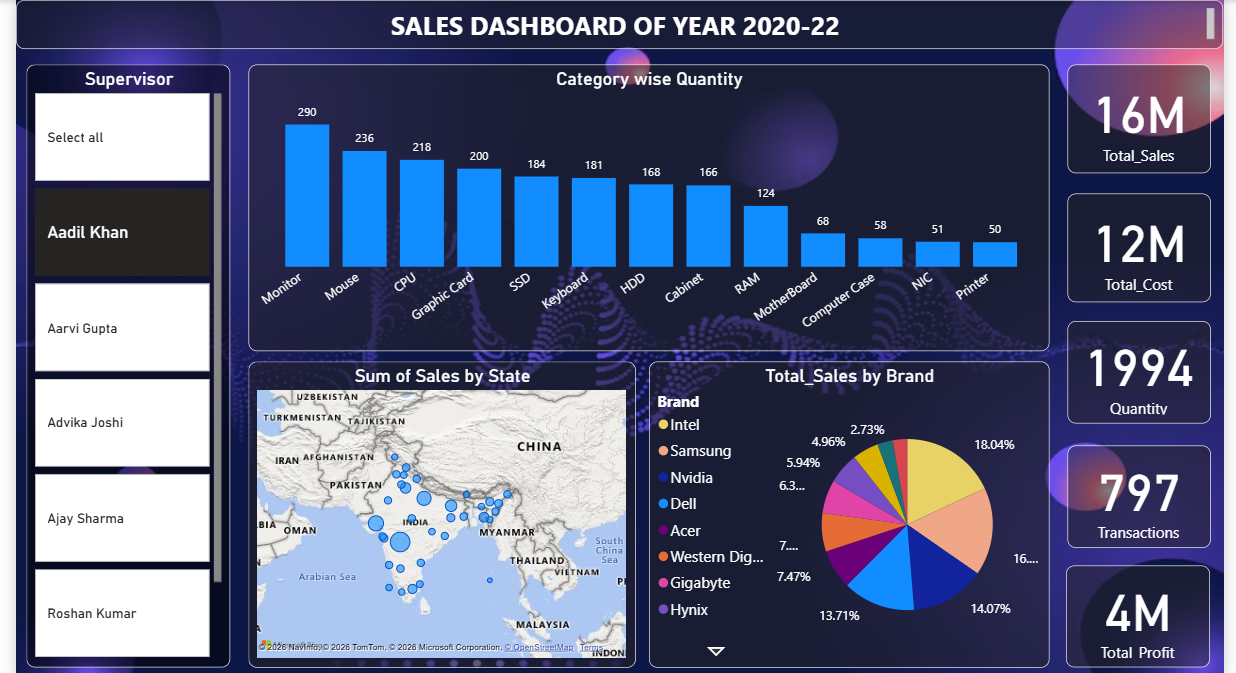

The dashboard page shown, as its layout file describes it:
{"tool":"powerbi","page":{"name":"Page 1","canvas":[1280,720],"ordinal":0},"visuals":[{"type":"textbox","box":[0,0,1280,51.7],"z":0},{"type":"card","fields":{"Values":["Sum(Sales_Data.Total_Sales)"]},"box":[1115,68.3,151.7,115],"z":1000},{"type":"card","fields":{"Values":["Sum(Sales_Data.Total_Cost)"]},"box":[1115,205,151.7,115],"z":2000},{"type":"card","fields":{"Values":["Sum(Sales_Data.Quantity)"]},"box":[1115,340,151.7,108.3],"z":3000},{"type":"card","fields":{"Values":["CountNonNull(Sales_Data.Order_Number)"]},"box":[1115,471.7,151.7,108.3],"z":4000},{"type":"clusteredColumnChart","title":"Category wise Quantity","fields":{"Category":["Sales_Data.Category"],"Y":["Sum(Sales_Data.Quantity)"]},"box":[246.5,68.4,849.4,303.8],"z":5000},{"type":"pieChart","title":"Total_Sales by Brand","fields":{"Category":["Sales_Data.Brand"],"Y":["Sum(Sales_Data.Total_Sales)"]},"box":[671.2,383.3,424.7,324.5],"z":6000},{"type":"map","fields":{"Category":["State_list.State"],"Size":["Sum(Sales_Data.Sales)"]},"box":[246.5,383.3,410.4,324.5],"z":7000},{"type":"advancedSlicerVisual","fields":{"Values":["Supervisor.Supervisor"]},"box":[11.1,68.4,216.3,639.4],"z":8000},{"type":"card","fields":{"Values":["Sales_Data.Total_Profit"]},"box":[1113.4,599.7,152.7,108.2],"z":9000}]}

Visuals, with their boxes in screenshot pixels (x1, y1, x2, y2):
textbox: <box>3,29,1141,75</box>
card - Sum(Sales_Data.Total_Sales): <box>994,90,1129,192</box>
card - Sum(Sales_Data.Total_Cost): <box>994,211,1129,313</box>
card - Sum(Sales_Data.Quantity): <box>994,331,1129,427</box>
card - CountNonNull(Sales_Data.Order_Number): <box>994,448,1129,544</box>
"Category wise Quantity" clusteredColumnChart: <box>222,90,977,360</box>
"Total_Sales by Brand" pieChart: <box>600,370,977,658</box>
map - State_list.State x Sum(Sales_Data.Sales): <box>222,370,587,658</box>
advancedSlicerVisual - Supervisor.Supervisor: <box>13,90,205,658</box>
card - Sales_Data.Total_Profit: <box>993,562,1128,658</box>
